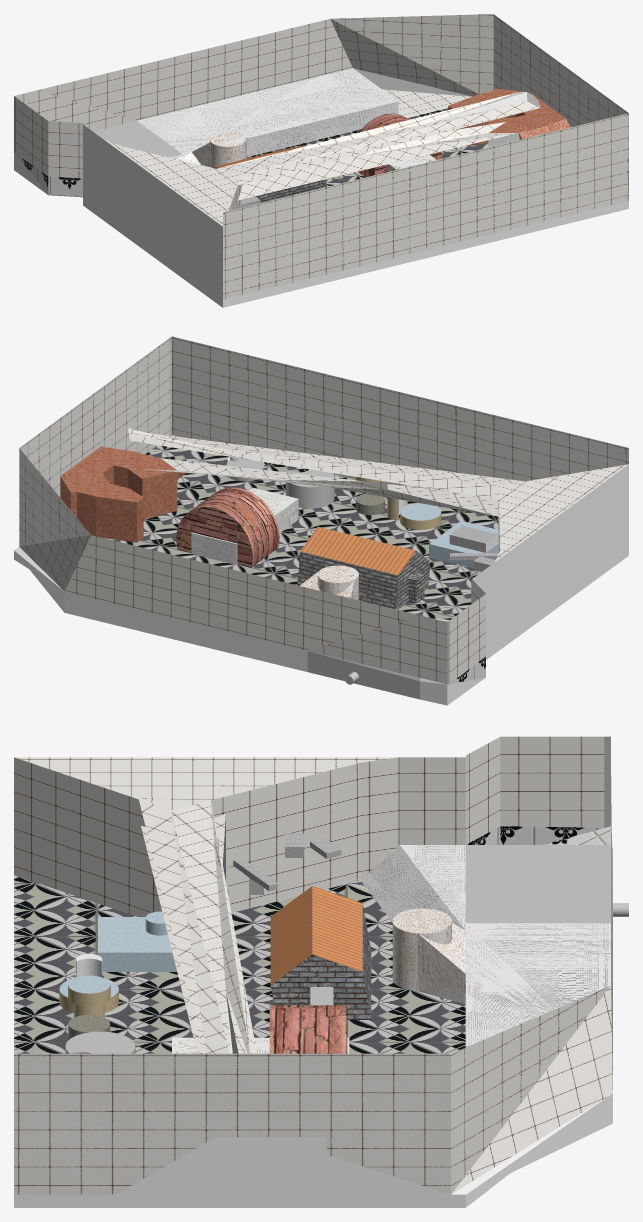
File: 2ndlevel.dae
The picture shows the model from 3 angles, top to bottom: view 1: azimuth 30°, elevation 25°; view 2: azimuth 150°, elevation 25°; view 3: azimuth 270°, elevation 25°; orthographic projection. The views are drawn at different scales.
Visible parts, largest first — view 1: SketchUp (×15); view 2: SketchUp (×19); view 3: SketchUp (×16).
Part boxes in pixels (<box>): SketchUp (×15): <box>14,14,628,307</box>; SketchUp (×19): <box>14,336,628,705</box>; SketchUp (×16): <box>14,736,612,1207</box>.
Size of the model in its own units: 308 by 236 by 77.62.
